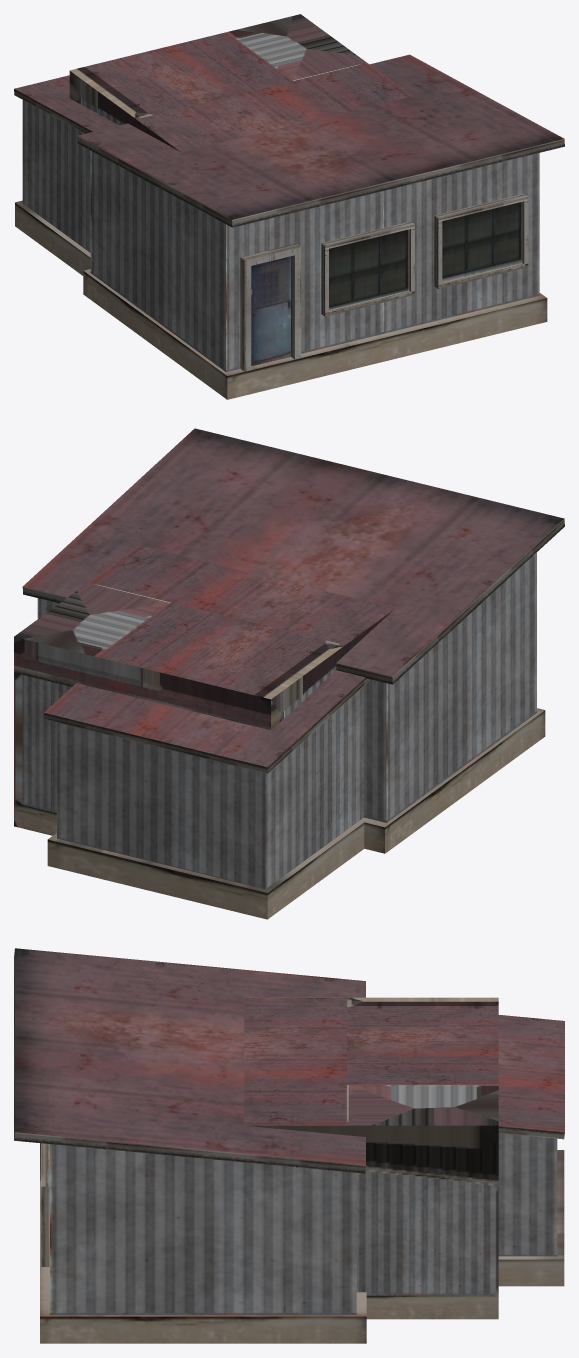
Rendered from dz_industrial_11.fbx.
3 renders of one model, top to bottom at view 1: azimuth 30°, elevation 25°; view 2: azimuth 150°, elevation 25°; view 3: azimuth 270°, elevation 25°, orthographic. The views are drawn at different scales.
Visible parts, largest first — view 1: dz_industrial_11_LOD0; view 2: dz_industrial_11_LOD0; view 3: dz_industrial_11_LOD0.
Part boxes in pixels (x1,y1,x2,y2): dz_industrial_11_LOD0: (14, 14, 564, 399); dz_industrial_11_LOD0: (14, 428, 564, 919); dz_industrial_11_LOD0: (14, 948, 564, 1343).
Size of what is drawn, in the model's own units: 7.88 by 4.29 by 9.97.
Materials: 2 (2 with a texture image).
